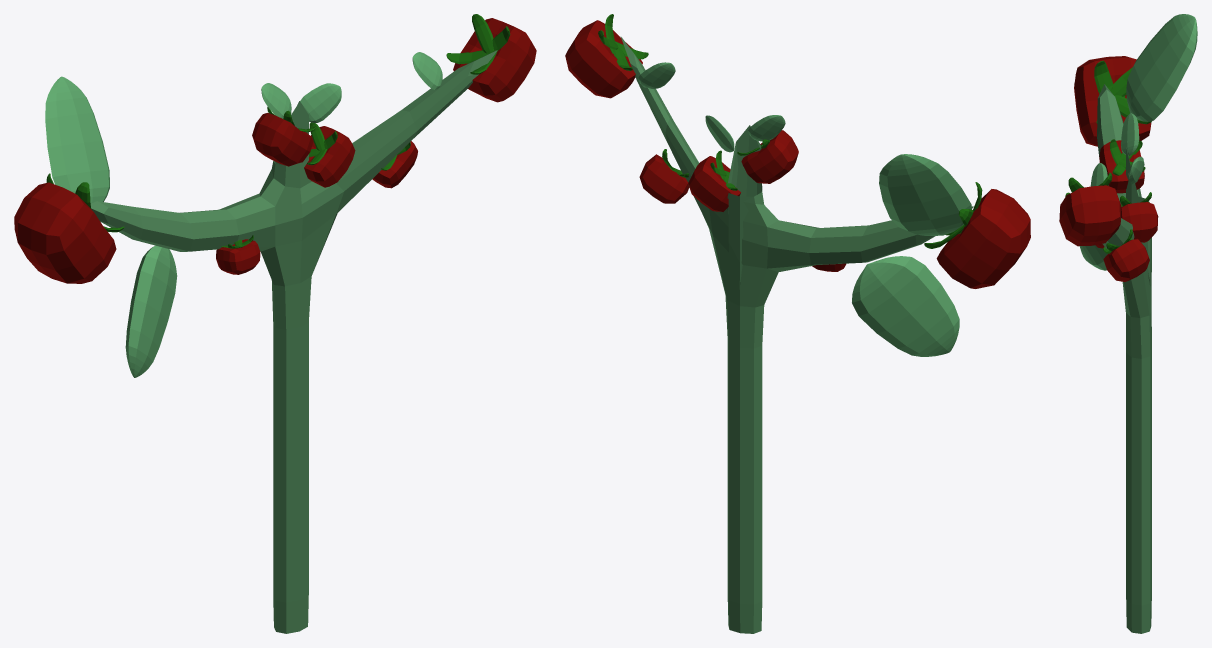
Rendered from tomato.fbx.
3 renders of one model, left to right at view 1: azimuth 30°, elevation 25°; view 2: azimuth 150°, elevation 25°; view 3: azimuth 270°, elevation 25°, orthographic. The views are drawn at different scales.
Visible parts, largest first — view 1: Cube.007, Cube.013, Cube.024, Cube.008, Cube.045, Cube.018, Cube.019, Cube.030, Cube.025, Cube.031, Cube.046; view 2: Cube.007, Cube.008, Cube.013, Cube.024, Cube.045, Cube.018, Cube.019, Cube.031, Cube.046, Cube.002; view 3: Cube.007, Cube.024, Cube.045, Cube.013, Cube.031, Cube.019, Cube.018, Cube.002, Cube.008, Cube.010, Cube.012, Cube.025 (+2 smaller).
Part boxes in pixels (left/top/right/bottom): Cube.007: left=90, top=50, right=497, bottom=633; Cube.013: left=14, top=182, right=116, bottom=283; Cube.024: left=45, top=76, right=109, bottom=203; Cube.008: left=125, top=245, right=177, bottom=377; Cube.045: left=453, top=18, right=536, bottom=102; Cube.018: left=252, top=113, right=313, bottom=166; Cube.019: left=304, top=126, right=355, bottom=187; Cube.030: left=216, top=239, right=260, bottom=274; Cube.025: left=300, top=83, right=341, bottom=122; Cube.031: left=372, top=141, right=417, bottom=188; Cube.046: left=412, top=52, right=442, bottom=89; Cube.007: left=620, top=36, right=973, bottom=633; Cube.008: left=852, top=256, right=959, bottom=356; Cube.013: left=936, top=189, right=1030, bottom=288; Cube.024: left=879, top=154, right=971, bottom=235; Cube.045: left=565, top=20, right=642, bottom=98; Cube.018: left=741, top=130, right=798, bottom=183; Cube.019: left=688, top=156, right=740, bottom=211; Cube.031: left=639, top=154, right=689, bottom=203; Cube.046: left=638, top=62, right=675, bottom=88; Cube.002: left=748, top=115, right=785, bottom=141; Cube.007: left=1097, top=84, right=1151, bottom=633; Cube.024: left=1126, top=14, right=1197, bottom=121; Cube.045: left=1059, top=185, right=1121, bottom=246; Cube.013: left=1074, top=56, right=1151, bottom=146; Cube.031: left=1103, top=238, right=1149, bottom=281; Cube.019: left=1121, top=202, right=1158, bottom=242; Cube.018: left=1099, top=140, right=1144, bottom=193; Cube.002: left=1121, top=113, right=1139, bottom=155; Cube.008: left=1079, top=245, right=1107, bottom=270; Cube.010: left=1094, top=60, right=1113, bottom=93; Cube.012: left=1111, top=67, right=1132, bottom=96; Cube.025: left=1128, top=156, right=1144, bottom=184.
Size of the model in its own units: 121 by 136 by 32.32.
